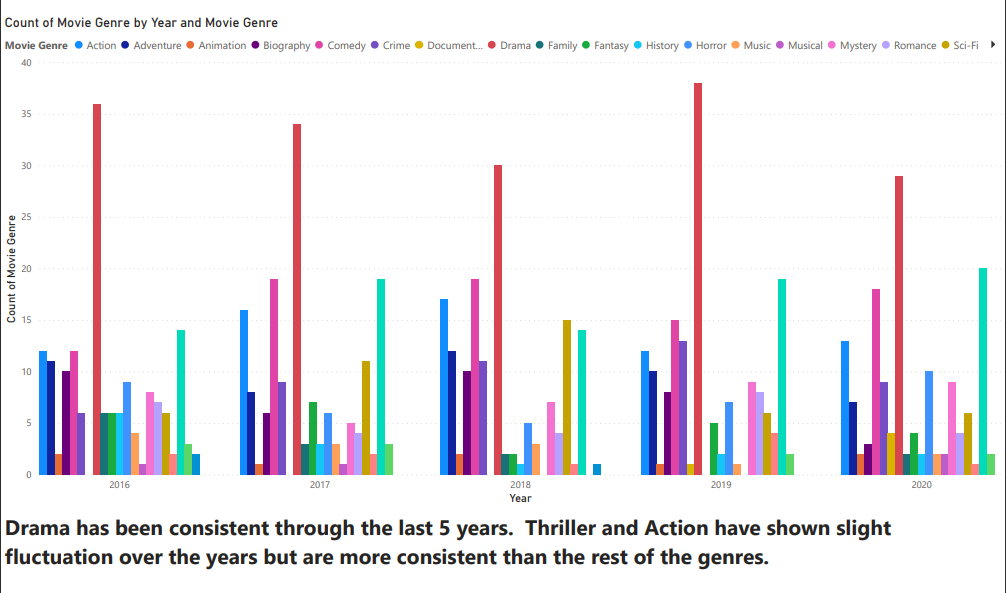

Layout of this report page (visuals, bound fields, positions):
{"tool":"powerbi","page":{"name":"Page 2","canvas":[1280,720],"ordinal":1},"visuals":[{"type":"clusteredColumnChart","fields":{"Category":["movies with description.Year"],"Series":["movie_genre.Genres"],"Y":["CountNonNull(movie_genre.Genres)"]},"box":[0,15.9,1279.8,613.2],"z":0},{"type":"textbox","box":[0,629.1,1279.8,90.9],"z":1000},{"type":"clusteredColumnChart","fields":{"Y":["CountNonNull(movie_genre.Movie Genre)"],"Category":["movies with description.Year"],"Series":["movie_genre.Movie Genre"]},"box":[0,0,1280,629.9],"z":2000}]}

Visuals, with their boxes on the page's 1280x720 design canvas (x1, y1, x2, y2). These are canvas units, not pixel positions in the 1006x593 screenshot, which may show the page scaled, cropped or inside an application window:
clusteredColumnChart - movies with description.Year x movie_genre.Genres: crop(0, 16, 1280, 629)
textbox: crop(0, 629, 1280, 720)
clusteredColumnChart - CountNonNull(movie_genre.Movie Genre) x movies with description.Year: crop(0, 0, 1280, 630)
